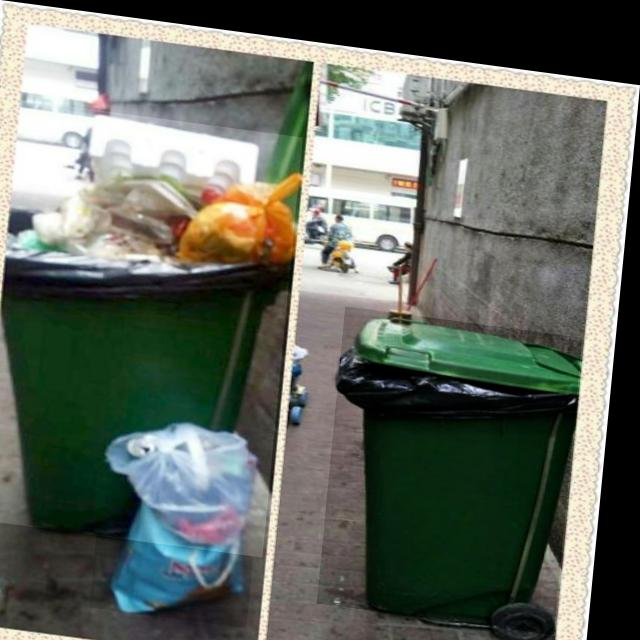garbage: (101, 405, 274, 620)
garbage_bin: (328, 296, 588, 618)
overflow: (0, 99, 305, 549)
